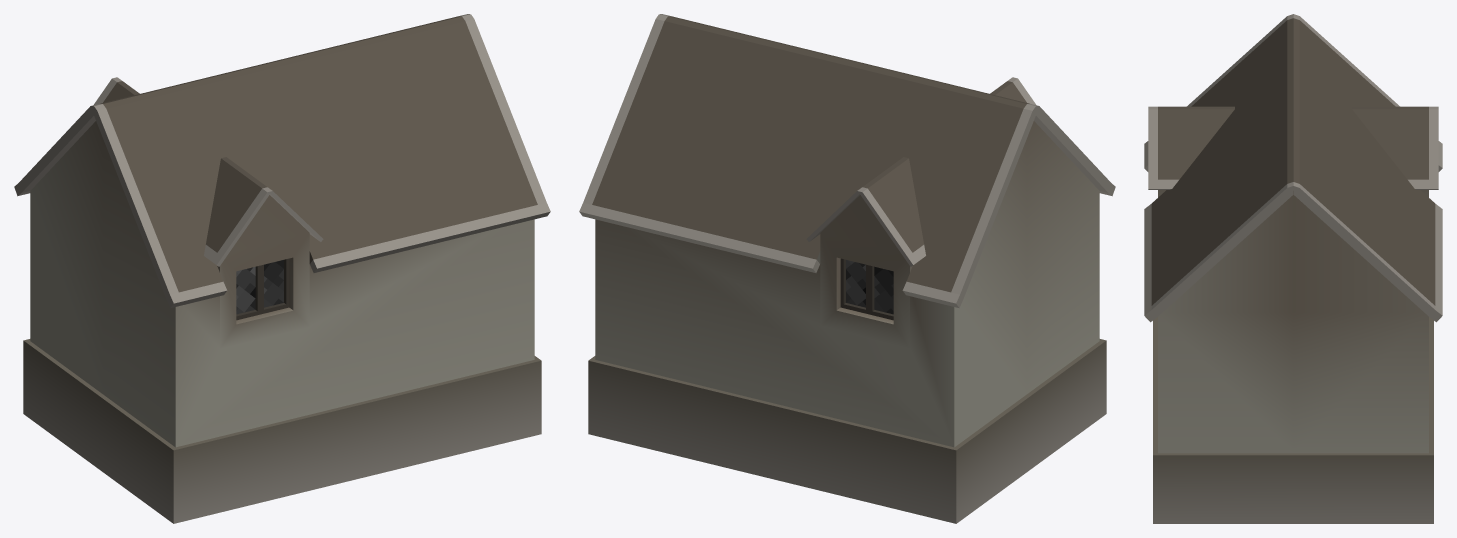
The model's file is Base-1Floor_C.fbx.
The picture shows the model from 3 angles, left to right: view 1: azimuth 30°, elevation 25°; view 2: azimuth 150°, elevation 25°; view 3: azimuth 270°, elevation 25°; orthographic projection. The views are drawn at different scales.
Visible parts, largest first — view 1: Base-1Floor_C; view 2: Base-1Floor_C; view 3: Base-1Floor_C.
Boxes of the visible parts, bbox=[...] form: Base-1Floor_C: bbox=[14, 14, 550, 523]; Base-1Floor_C: bbox=[579, 14, 1115, 523]; Base-1Floor_C: bbox=[1144, 14, 1442, 523].
Bounding box in the file's own units: 1050 × 969 × 771.
